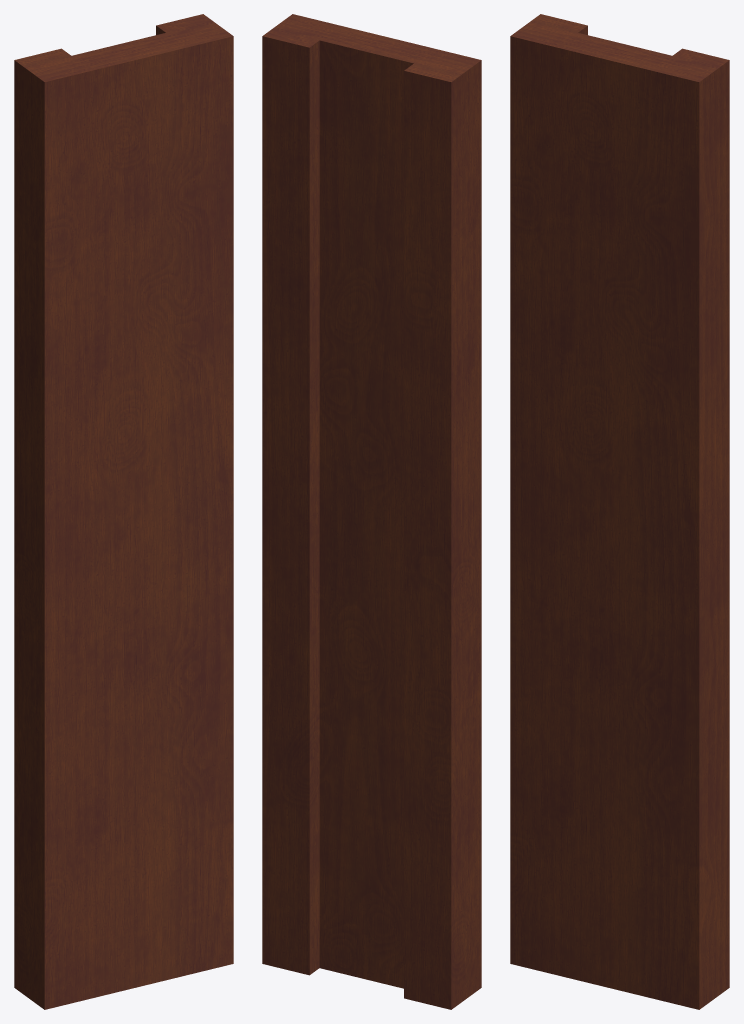
Rendered from SM_VarnishWall01I.fbx.
3 renders of one model, left to right at view 1: azimuth 30°, elevation 25°; view 2: azimuth 150°, elevation 25°; view 3: azimuth 330°, elevation 25°, orthographic.
Visible parts, largest first — view 1: SM_VarnishWall01I; view 2: SM_VarnishWall01I; view 3: SM_VarnishWall01I.
Part boxes in pixels (left/top/right/bottom): SM_VarnishWall01I: left=14, top=14, right=233, bottom=1009; SM_VarnishWall01I: left=262, top=14, right=481, bottom=1009; SM_VarnishWall01I: left=510, top=14, right=729, bottom=1009.
Bounding box in the file's own units: 43.21 × 12 × 203.
Materials: 1 (1 with a texture image).
